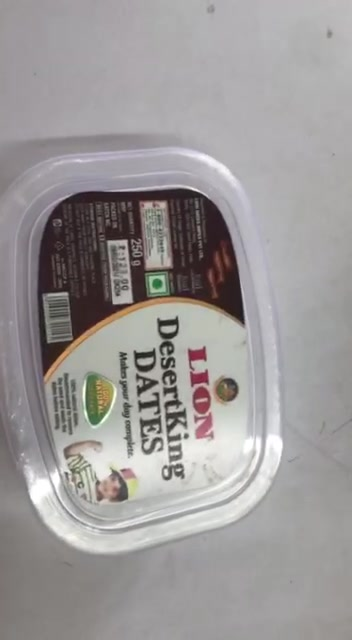Lion dates: (6, 153, 283, 548)
